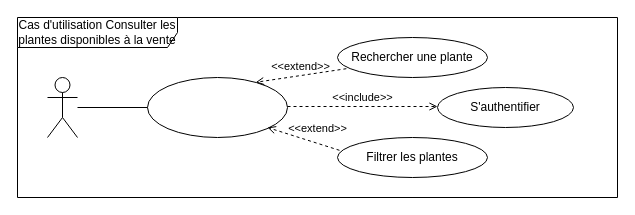
Image size: 635x215. Some labels were removed from this diagram. The shapes that lost their labels are listed below. From the top down, each one's centre as x and y in pixels, then its label:
the point at 62,107: Client
the point at 217,107: Consulter les plantes disponibles à la vente
